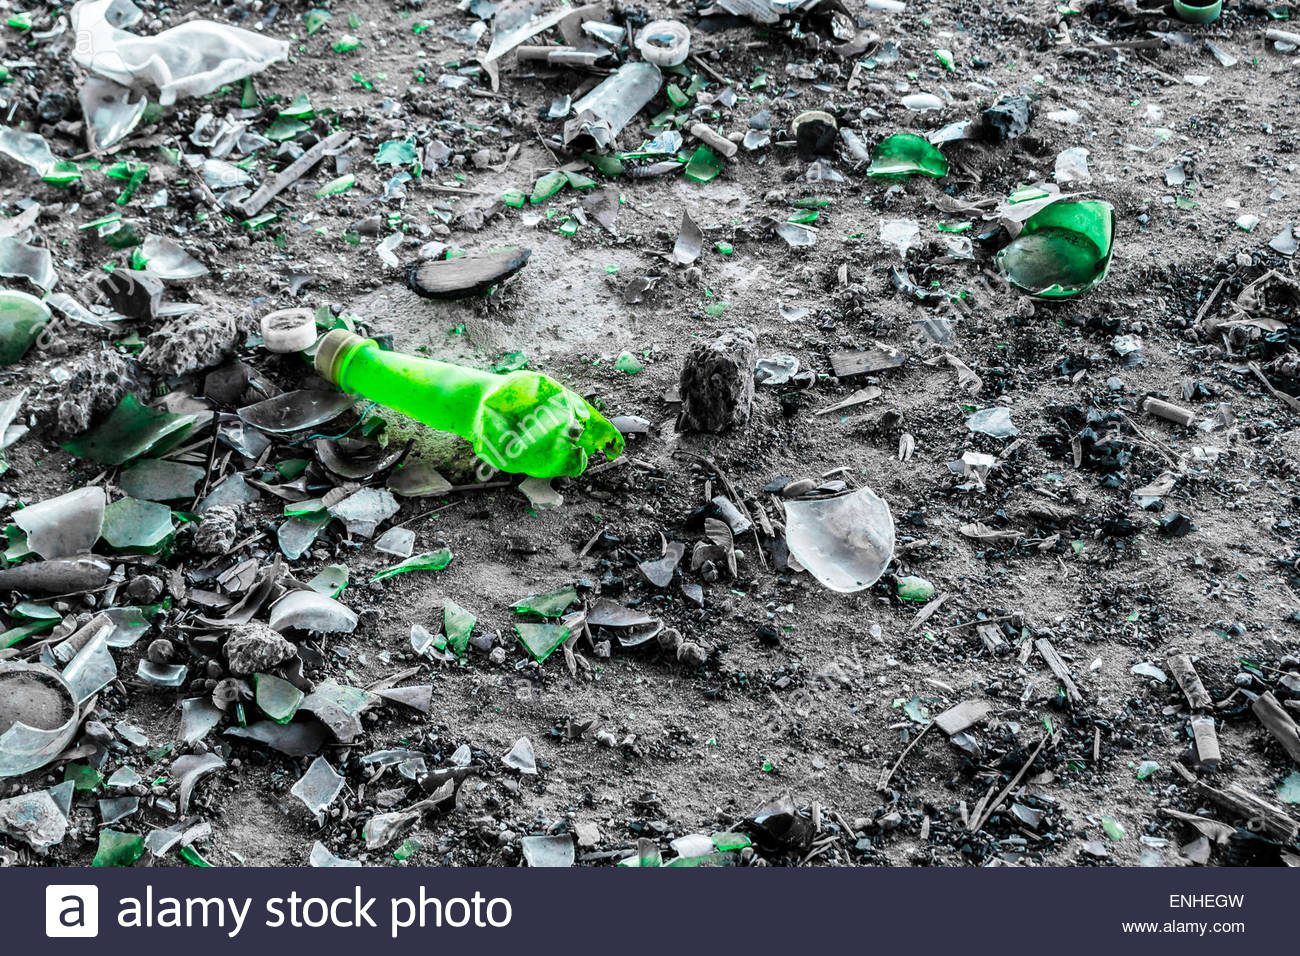scrap: (310, 326, 634, 476), (869, 134, 1123, 301)
